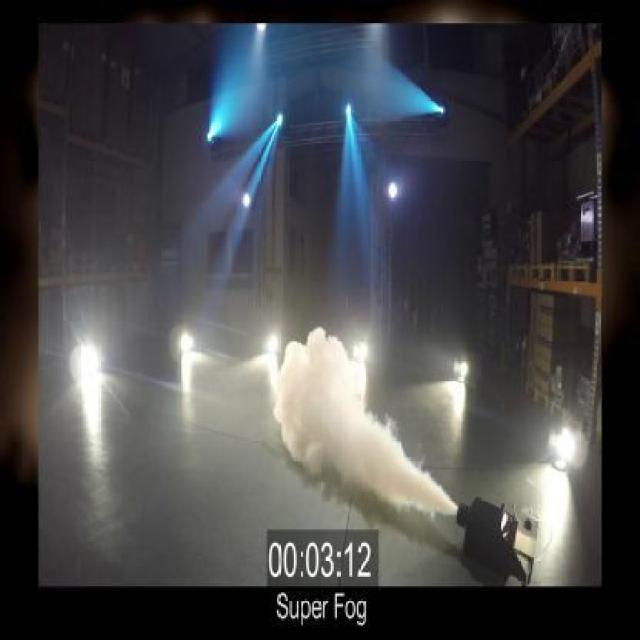fire: (273, 318, 441, 516)
